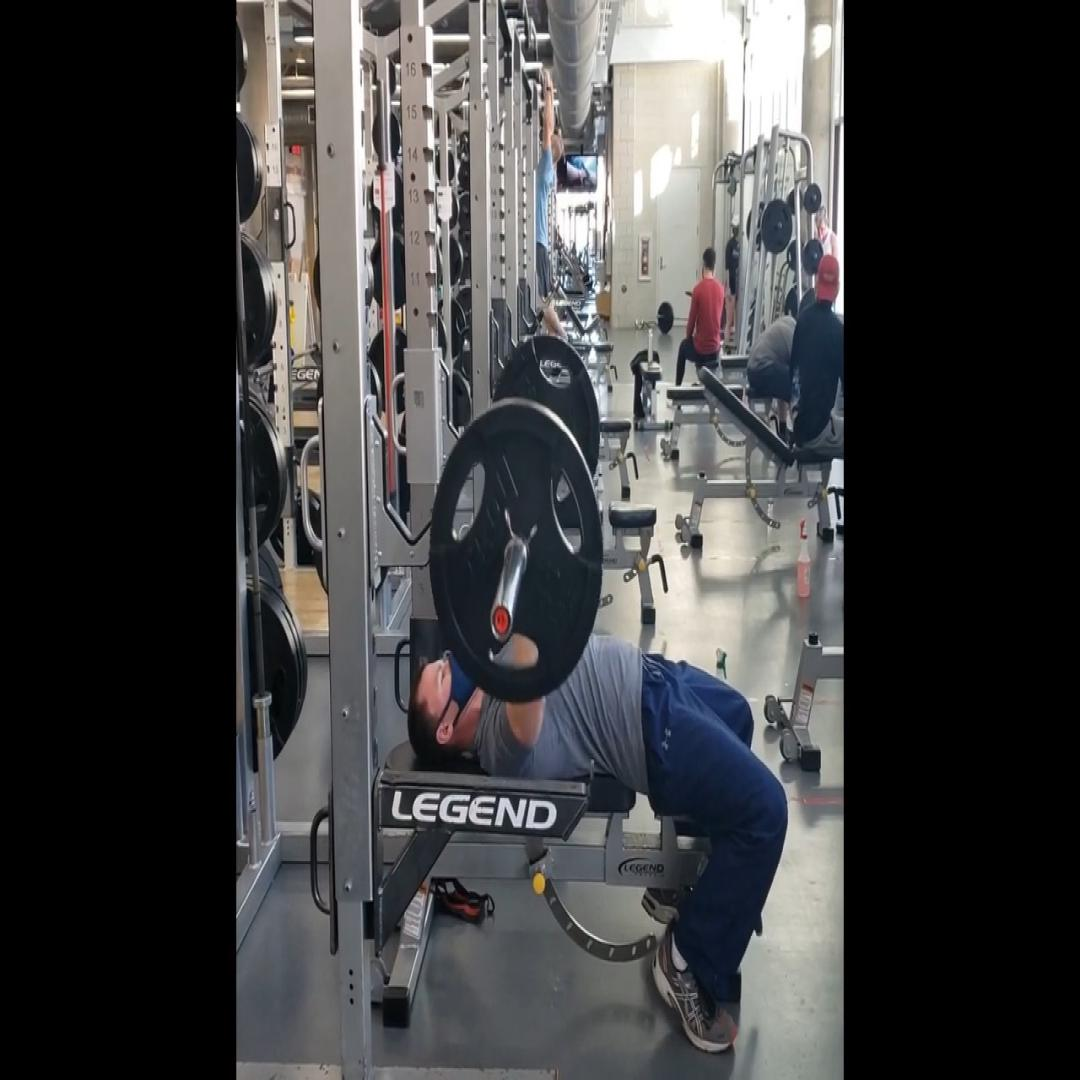Bar: (488, 600, 514, 644)
Barbell: (429, 403, 605, 703)
